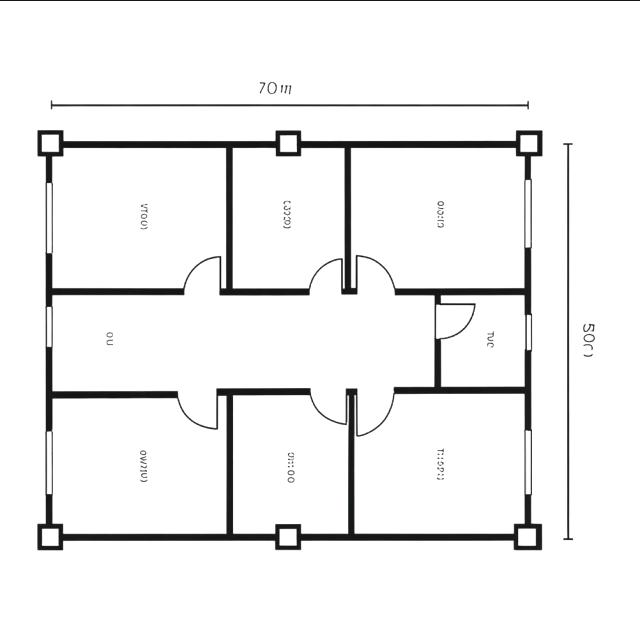column: (506, 518, 548, 556), (512, 124, 548, 162), (34, 124, 68, 162), (271, 518, 305, 554), (34, 518, 68, 554), (271, 125, 306, 159)
